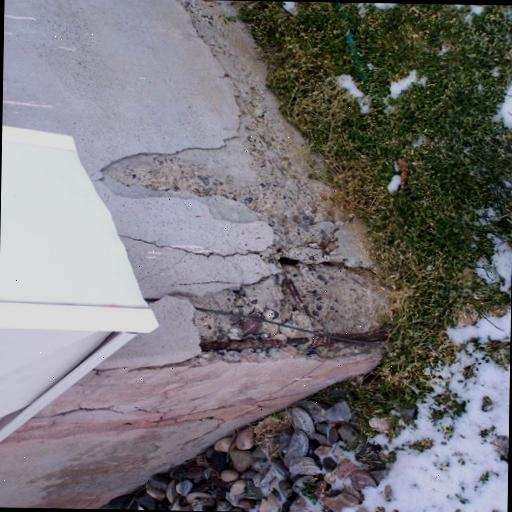spalling: (100, 0, 394, 360), (128, 224, 262, 260), (86, 350, 193, 382)
